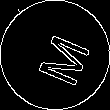M_NW: (23, 24, 87, 86)
